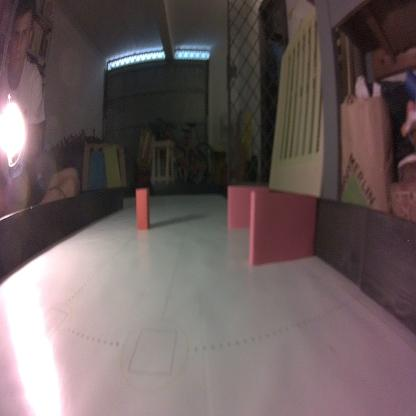magenta: (246, 188, 320, 270), (226, 183, 272, 231)
red: (134, 186, 150, 229)
